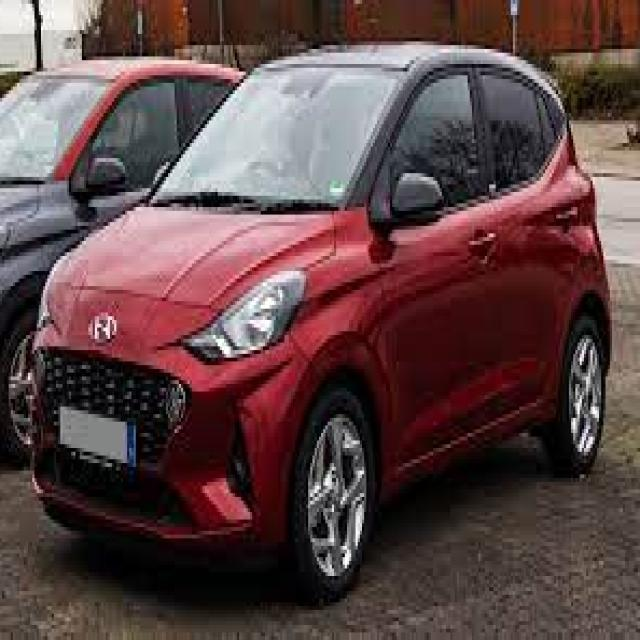car: (46, 44, 614, 576), (2, 60, 244, 424)
